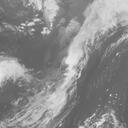cyclone: (45, 44, 87, 98)
